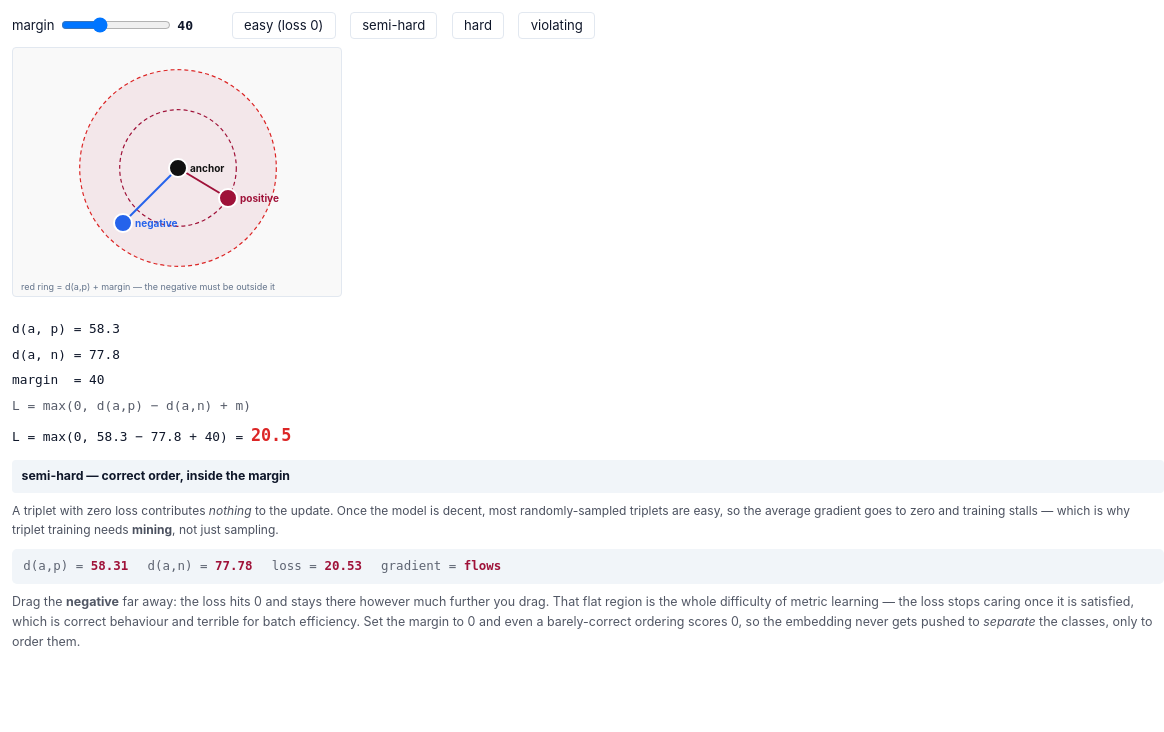
Test: transfer-learning widgets › triplet widget shows zero loss for the easy preset
The image size is (1164, 732).
Click the button "easy (loss 0)".
click(284, 25)  # box [232,12,336,39]
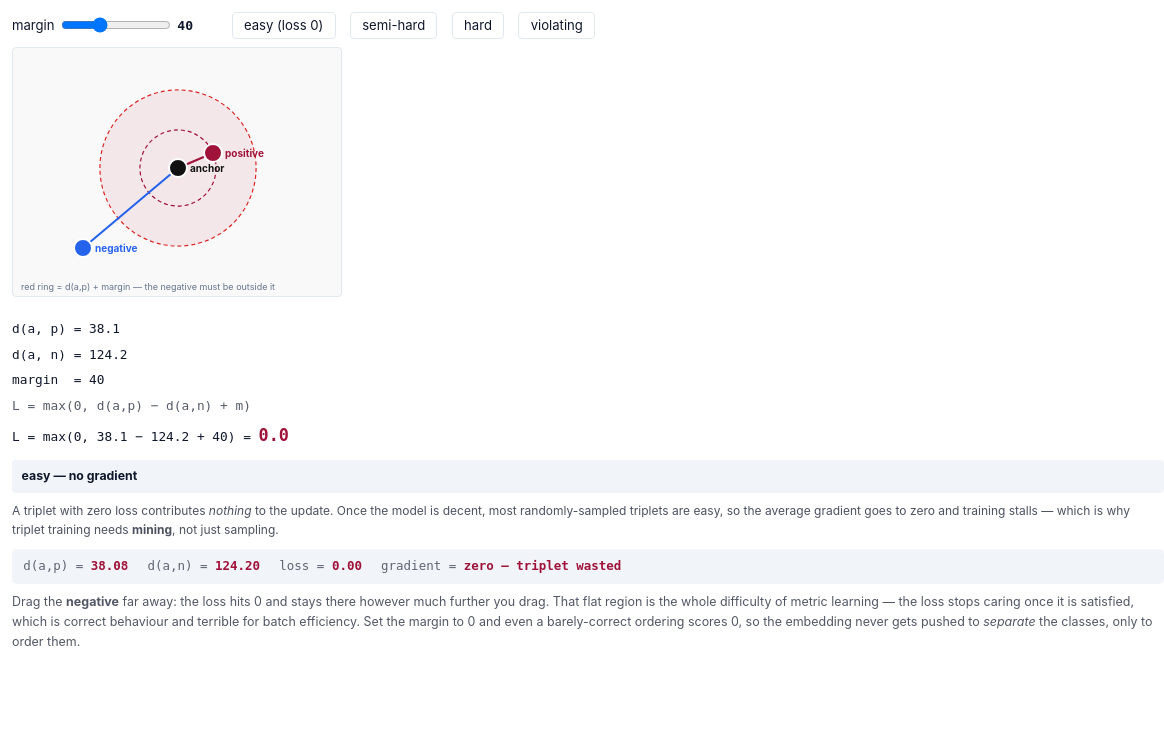
Result: the text "no gradient" is shown at [22,468,137,483]
